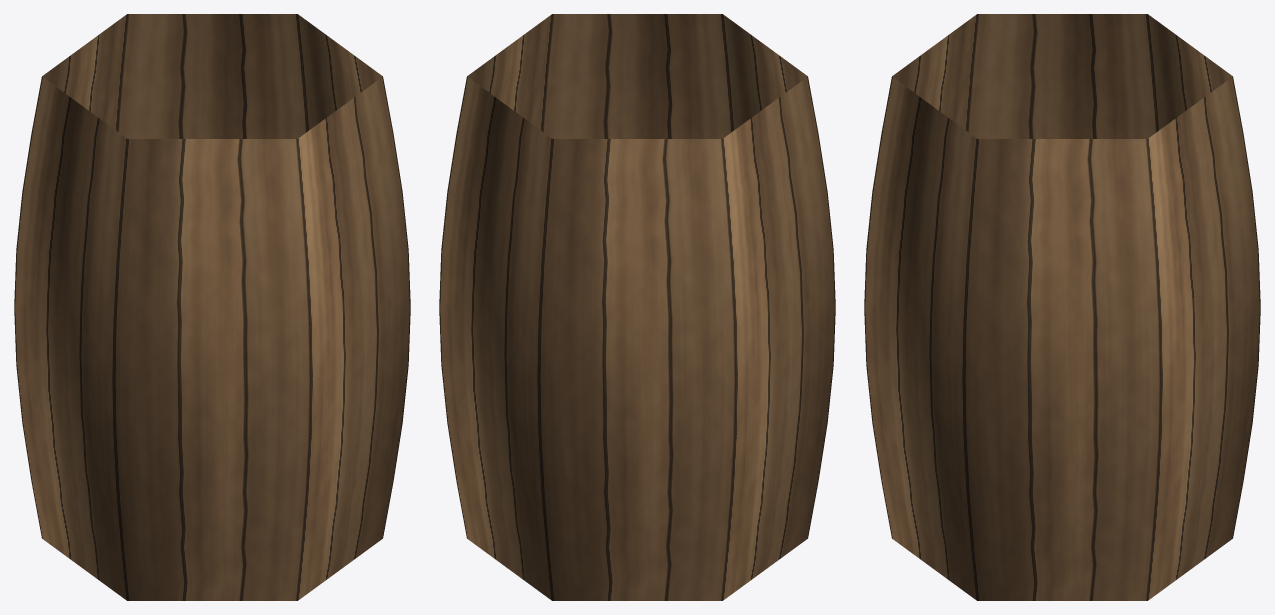
The model's file is Barrel_LOD2.gltf.
The picture shows the model from 3 angles, left to right: view 1: azimuth 30°, elevation 25°; view 2: azimuth 150°, elevation 25°; view 3: azimuth 270°, elevation 25°; orthographic projection.
Parts seen in each view (by area): view 1: Barrel_LOD2; view 2: Barrel_LOD2; view 3: Barrel_LOD2.
Boxes of the visible parts, x1=… form: Barrel_LOD2: x1=14, y1=14, x2=410, y2=600; Barrel_LOD2: x1=439, y1=14, x2=835, y2=600; Barrel_LOD2: x1=864, y1=14, x2=1260, y2=600.
Bounding box in the file's own units: 0.6062 × 0.9 × 0.7.
1 material, 1 textured.
